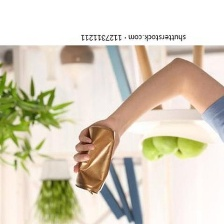can: (72, 121, 116, 195)
